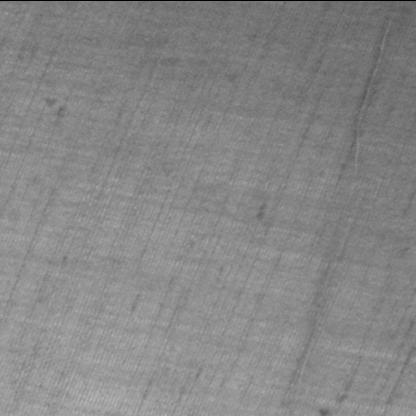objects: (288, 1, 404, 415)
